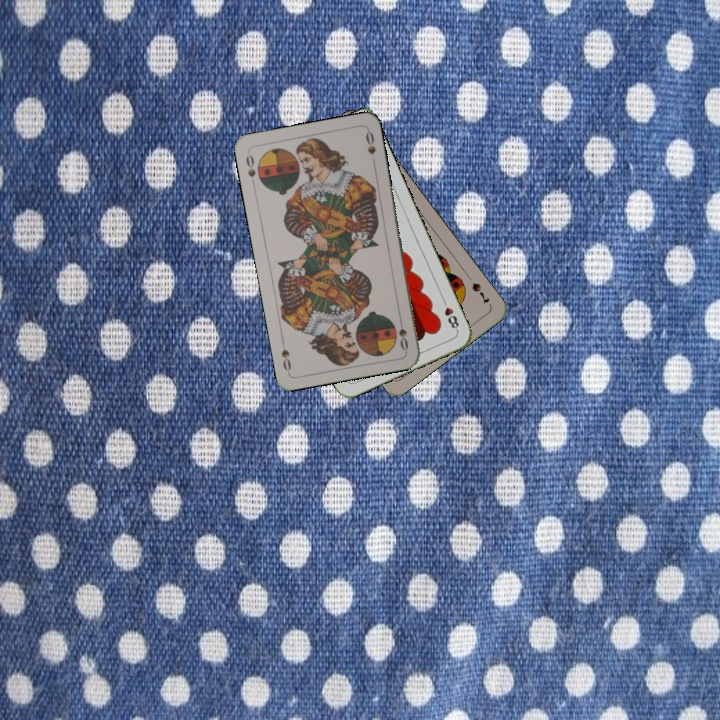H8: (438, 295, 461, 333)
S7: (468, 279, 493, 306)
SO: (394, 313, 411, 353), (242, 150, 258, 189)
